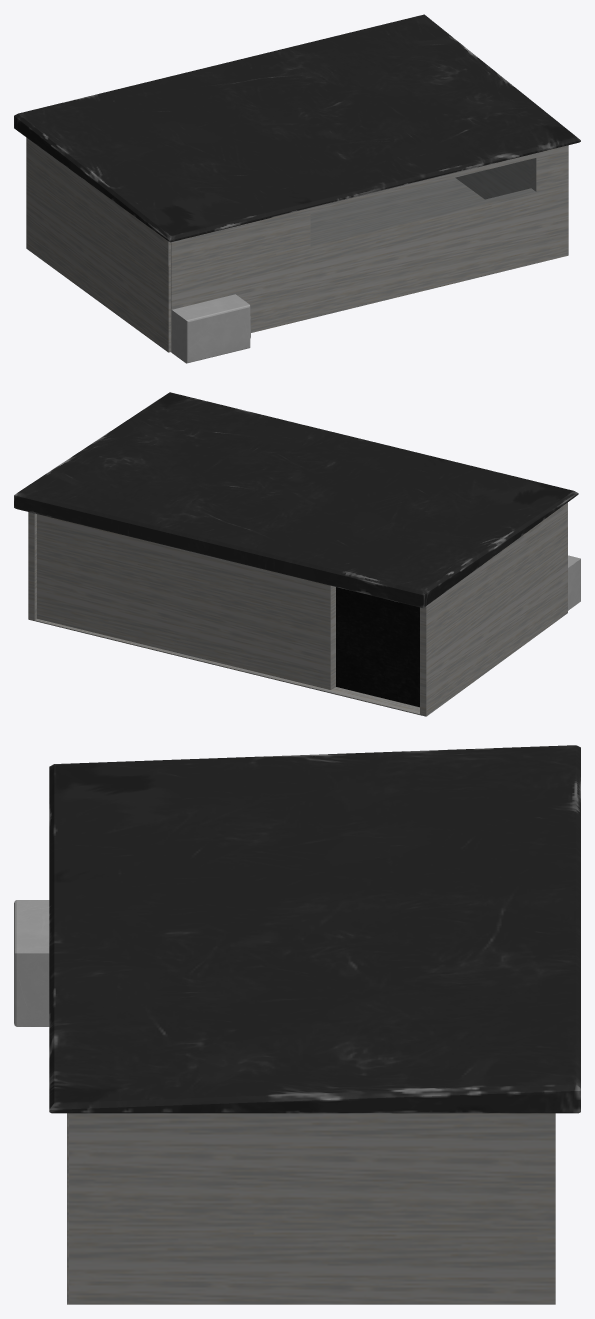
Rendered from Storage Room.glb.
3 renders of one model, top to bottom at view 1: azimuth 30°, elevation 25°; view 2: azimuth 150°, elevation 25°; view 3: azimuth 270°, elevation 25°, orthographic. The views are drawn at different scales.
Visible parts, largest first — view 1: Storage_Room_Roof, Storage_Room_Wall_Back, Storage_Room_Wall_L, Storage_Room_Wall_Back_window, Storage_Room_Floor, AirCon, Storage_Room_Wall_R; view 2: Storage_Room_Roof, Storage_Room_Wall_Front, Storage_Room_Wall_L, Storage_Room_Door, Storage_Room_Floor, Storage_Room_Wall_R, AirCon; view 3: Storage_Room_Roof, Storage_Room_Wall_R, AirCon.
Boxes of the visible parts, left/top/right/bottom form: Storage_Room_Roof: left=14, top=14, right=580, bottom=242; Storage_Room_Wall_Back: left=171, top=145, right=568, bottom=352; Storage_Room_Wall_L: left=26, top=137, right=170, bottom=352; Storage_Room_Wall_Back_window: left=311, top=158, right=535, bottom=246; Storage_Room_Floor: left=310, top=178, right=484, bottom=241; AirCon: left=171, top=294, right=250, bottom=363; Storage_Room_Wall_R: left=455, top=159, right=531, bottom=199; Storage_Room_Roof: left=14, top=392, right=578, bottom=607; Storage_Room_Wall_Front: left=37, top=514, right=335, bottom=689; Storage_Room_Wall_L: left=420, top=502, right=567, bottom=716; Storage_Room_Door: left=336, top=587, right=419, bottom=707; Storage_Room_Floor: left=33, top=619, right=423, bottom=715; Storage_Room_Wall_R: left=28, top=512, right=36, bottom=620; AirCon: left=568, top=555, right=580, bottom=610; Storage_Room_Roof: left=49, top=745, right=580, bottom=1113; Storage_Room_Wall_R: left=69, top=1113, right=555, bottom=1304; AirCon: left=14, top=900, right=49, bottom=1026.
Size of the model in its own units: 13.25 by 4.05 by 9.25.
Materials: 3 (3 with a texture image).
